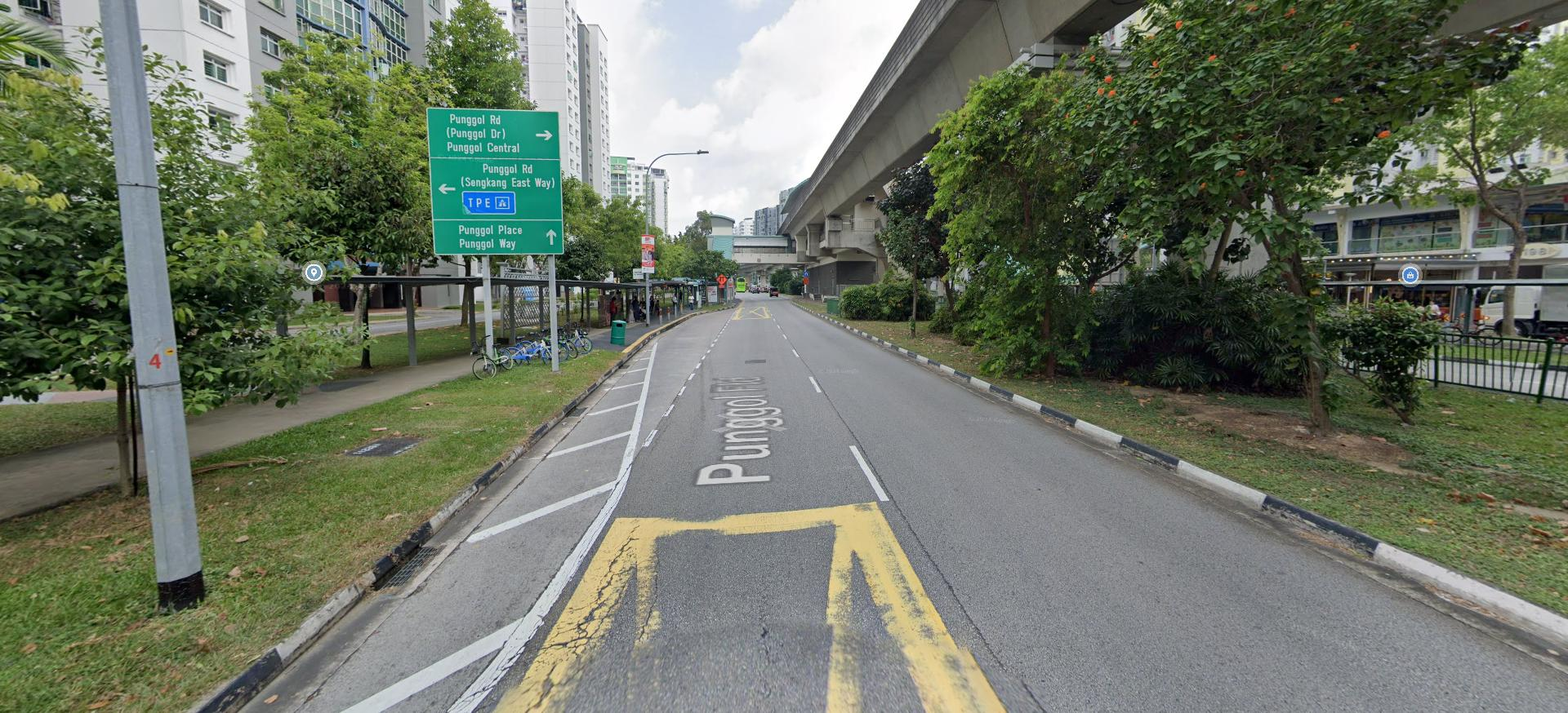normal: (375, 545, 448, 594)
